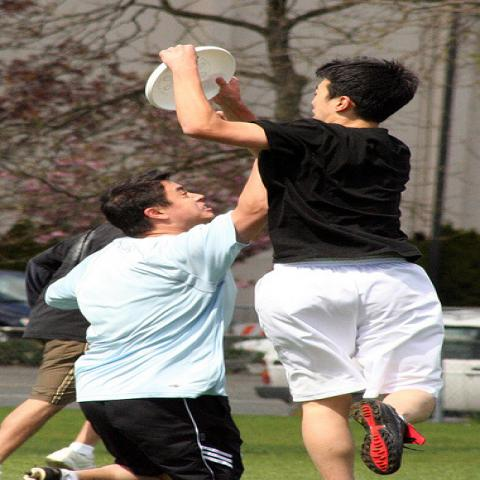car: (255, 307, 479, 415)
